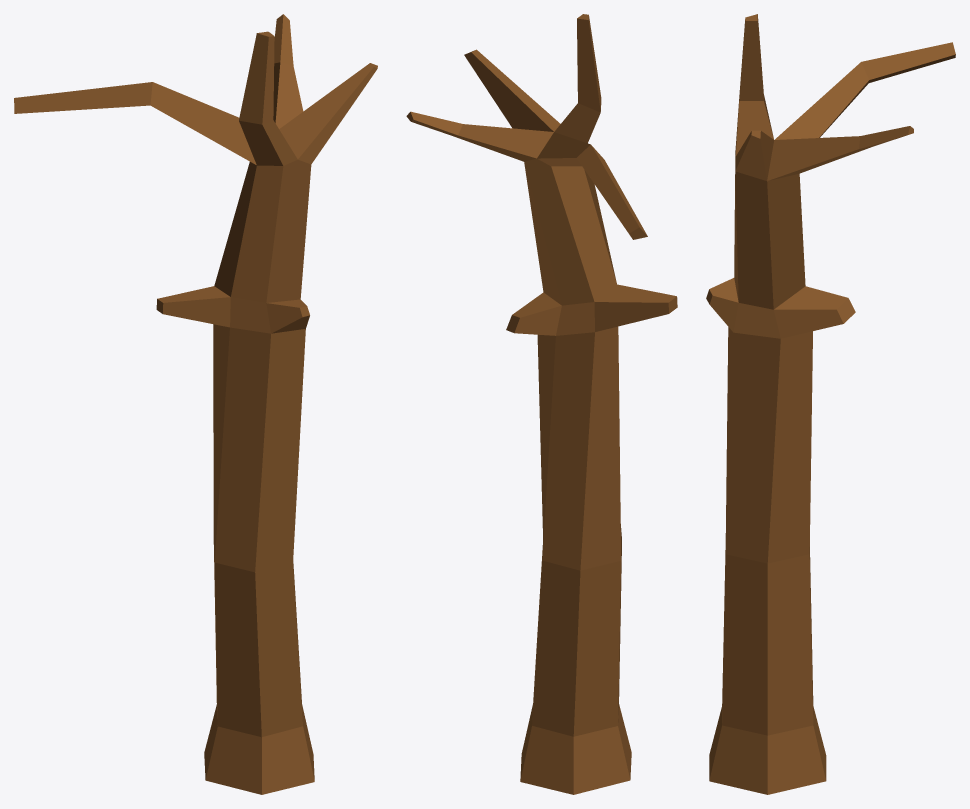
The model's file is Tree3.fbx.
The picture shows the model from 3 angles, left to right: view 1: azimuth 30°, elevation 25°; view 2: azimuth 150°, elevation 25°; view 3: azimuth 270°, elevation 25°; orthographic projection.
Visible parts, largest first — view 1: Tree3; view 2: Tree3; view 3: Tree3.
Boxes of the visible parts, x1,y1,x2,y2 form: Tree3: [14, 14, 377, 794]; Tree3: [406, 14, 677, 794]; Tree3: [706, 14, 955, 794].
Bounding box in the file's own units: 91.34 × 236 × 71.32.
